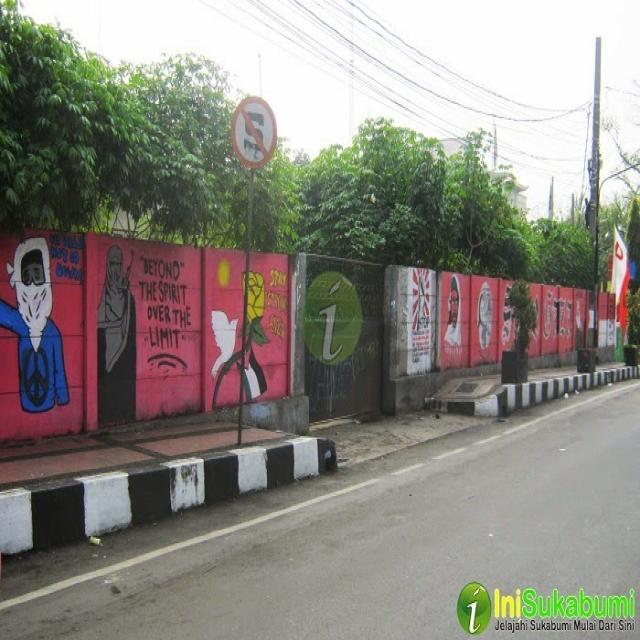-: (99, 242, 192, 428), (0, 235, 84, 414), (210, 258, 288, 404), (297, 272, 362, 372), (406, 267, 434, 374), (446, 276, 459, 356), (478, 280, 492, 350), (500, 282, 515, 346), (525, 286, 540, 346), (541, 291, 554, 342), (555, 298, 571, 328), (607, 295, 616, 345)
